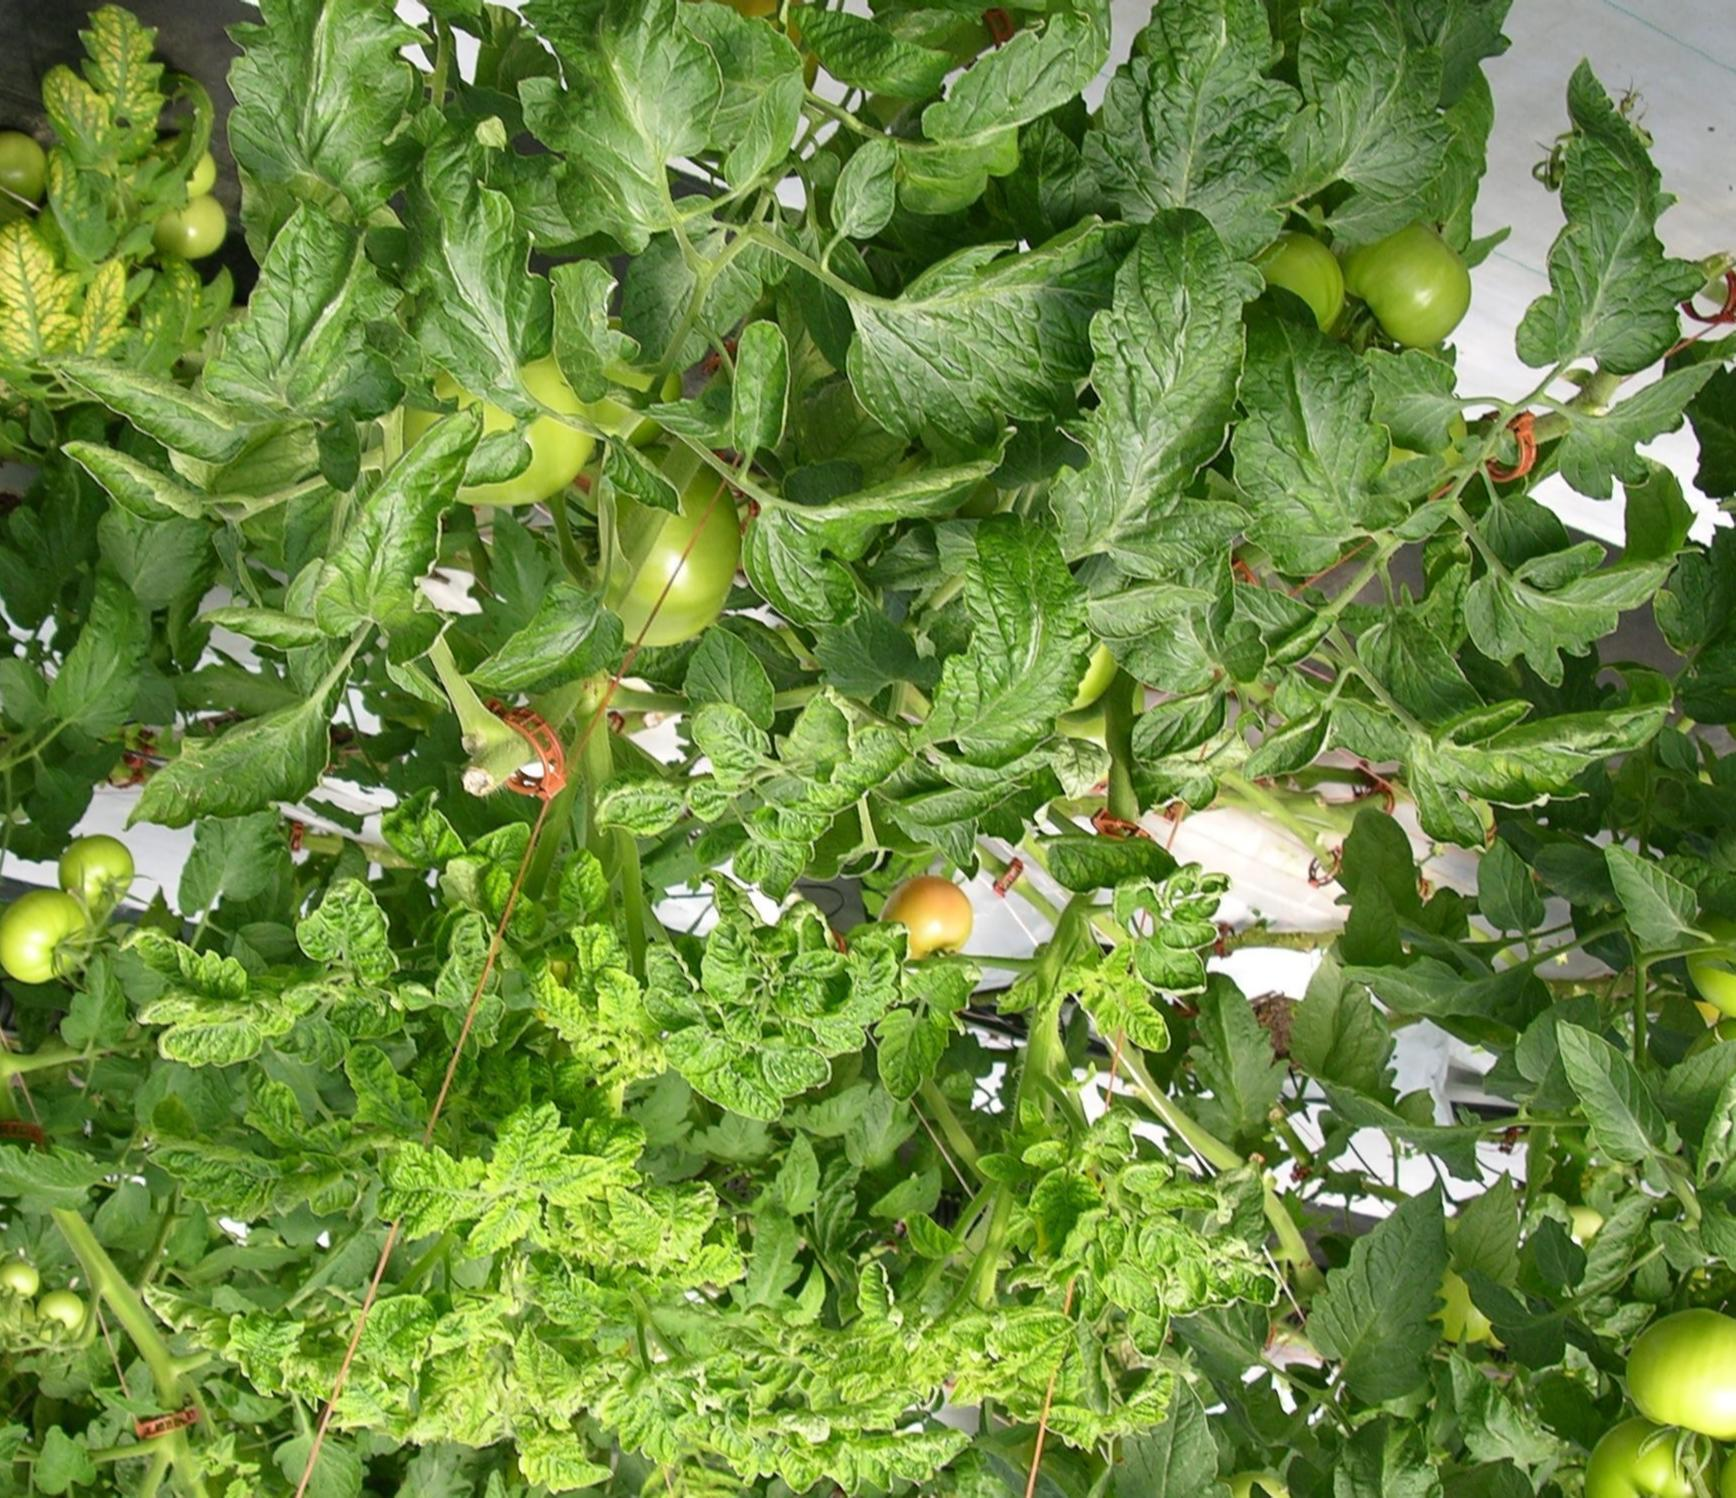Tomato leaf yellow virus: (1072, 196, 1270, 525), (895, 497, 1100, 767), (38, 0, 199, 263), (125, 905, 307, 1073), (272, 866, 419, 984), (598, 1173, 740, 1280), (350, 1133, 492, 1234), (0, 223, 83, 388), (593, 936, 670, 1100), (867, 995, 958, 1119), (503, 1309, 602, 1414), (1022, 1163, 1109, 1265), (1091, 981, 1190, 1069), (514, 931, 589, 1043), (841, 1250, 912, 1353), (492, 1097, 567, 1191), (1098, 1259, 1171, 1321)
